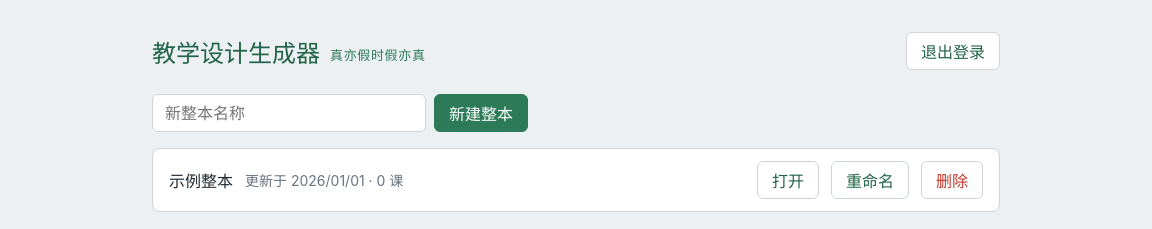
Test case: App › opens a book route when a book is selected
What coordinates should you click on to do the following:
click the button with test id "open-b1"
I would click on:
 (788, 180)
Its box is [757, 161, 819, 199].
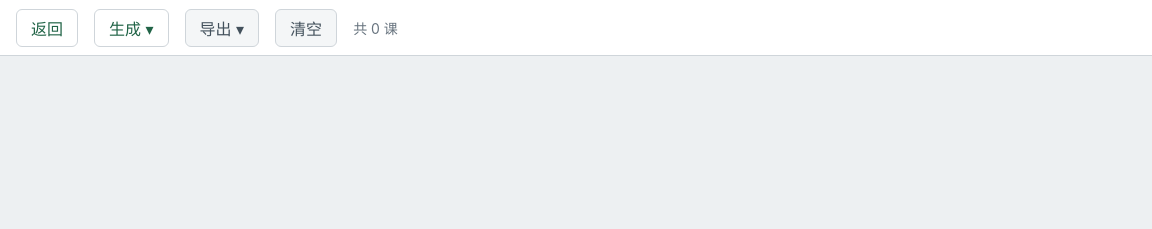
Now the button with test id "back" is shown, box [16, 8, 78, 46]
